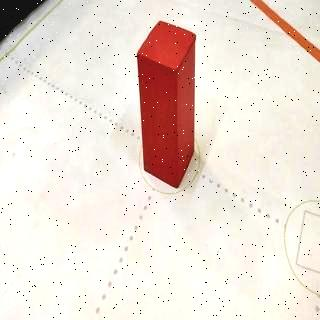redbox: (142, 22, 194, 184)
